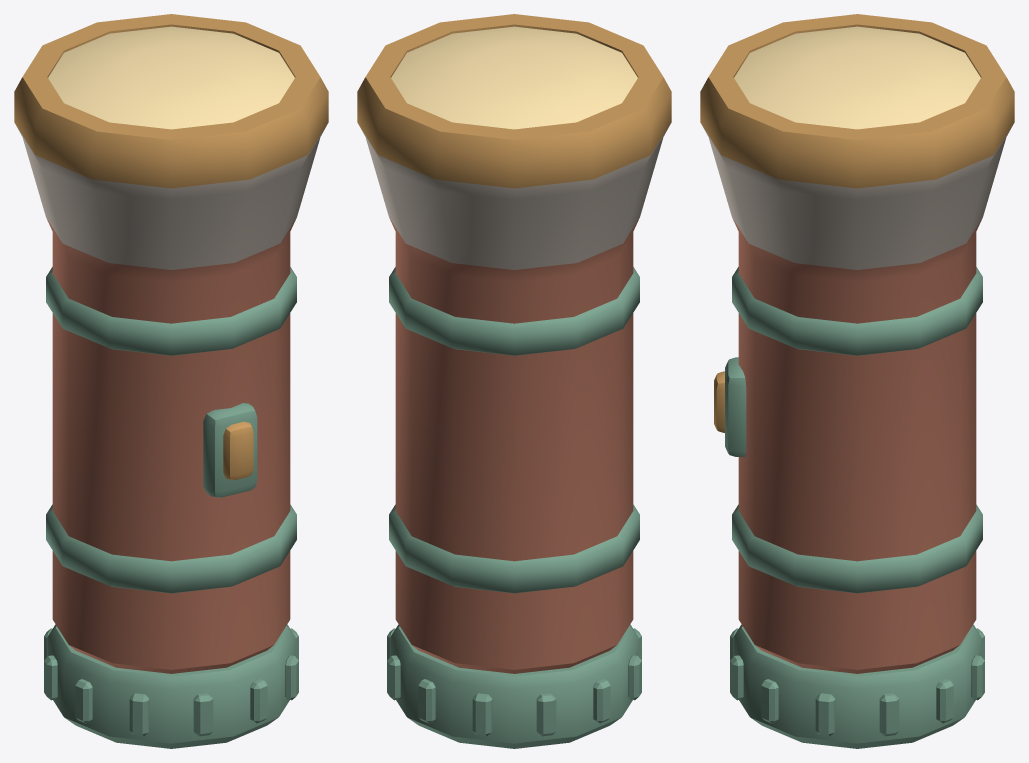
The model's file is torcia.glb.
3 views of the same model, side by side, from view 1: azimuth 30°, elevation 25°; view 2: azimuth 150°, elevation 25°; view 3: azimuth 270°, elevation 25° (orthographic).
Visible parts, largest first — view 1: corpo, tappo, vetro, bottone; view 2: corpo, tappo, vetro; view 3: corpo, tappo, vetro, bottone.
Boxes of the visible parts, x1,y1,x2,y2 form: corpo: (14, 14, 328, 673); tappo: (44, 624, 298, 748); vetro: (48, 26, 294, 129); bottone: (223, 421, 253, 479); corpo: (357, 14, 671, 673); tappo: (387, 624, 641, 748); vetro: (391, 26, 637, 129); corpo: (700, 14, 1014, 673); tappo: (730, 624, 984, 748); vetro: (734, 26, 980, 129); bottone: (714, 371, 724, 432).
Bounding box in the file's own units: 0.114 × 0.2589 × 0.114.
